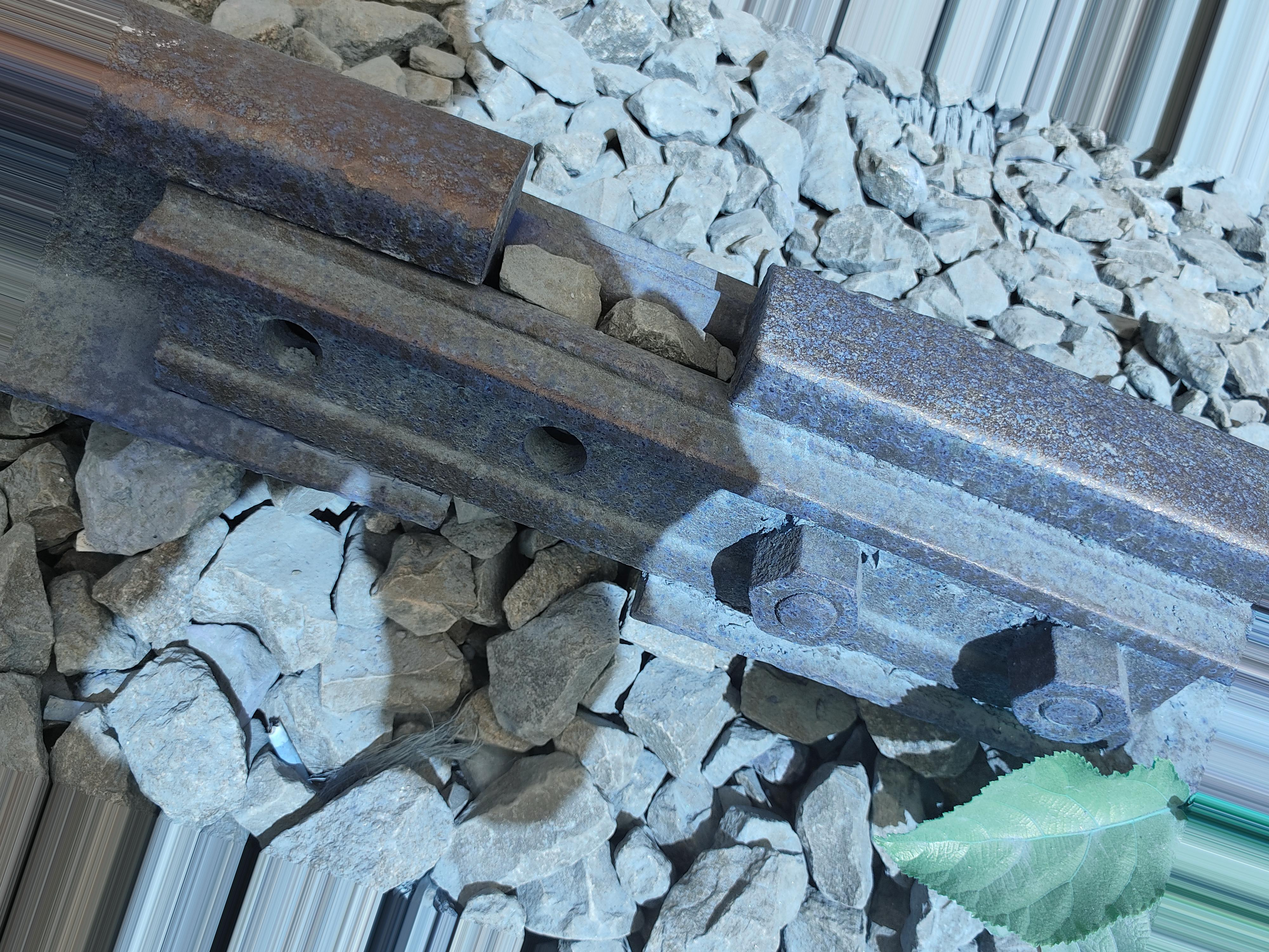tracks_fault: (438, 92, 826, 459)
